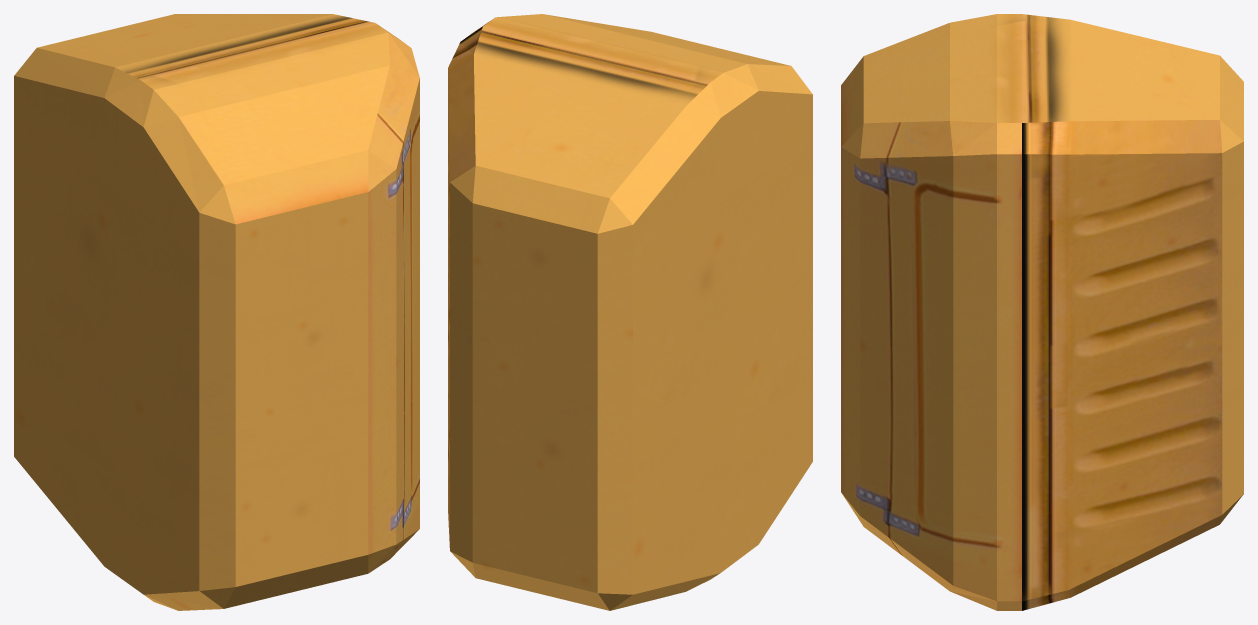
Rendered from YBIN_wtf.obj.
3 views of the same model, side by side, from view 1: azimuth 30°, elevation 25°; view 2: azimuth 150°, elevation 25°; view 3: azimuth 270°, elevation 25° (orthographic). The views are drawn at different scales.
Parts seen in each view (by area): view 1: group2; view 2: group2; view 3: group2.
Part boxes in pixels (box(x1,y1,x2,y2)): group2: box(14, 14, 419, 610); group2: box(448, 14, 812, 610); group2: box(841, 14, 1243, 610).
Size of the model in its own units: 379 by 660 by 494.
